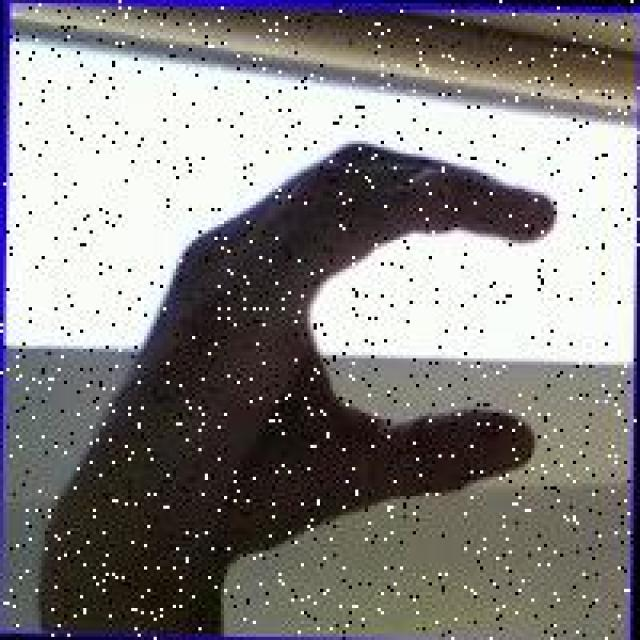C: (123, 131, 568, 563)
